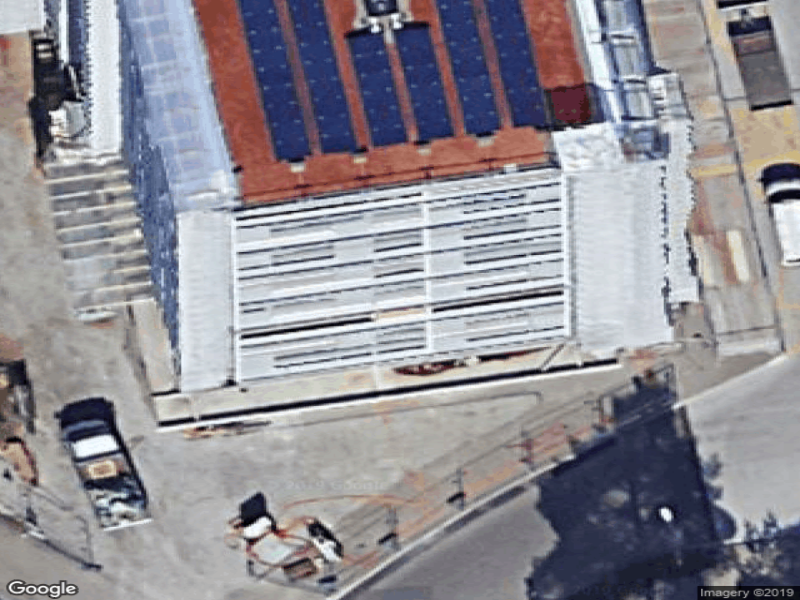pv: (237, 2, 552, 162)
